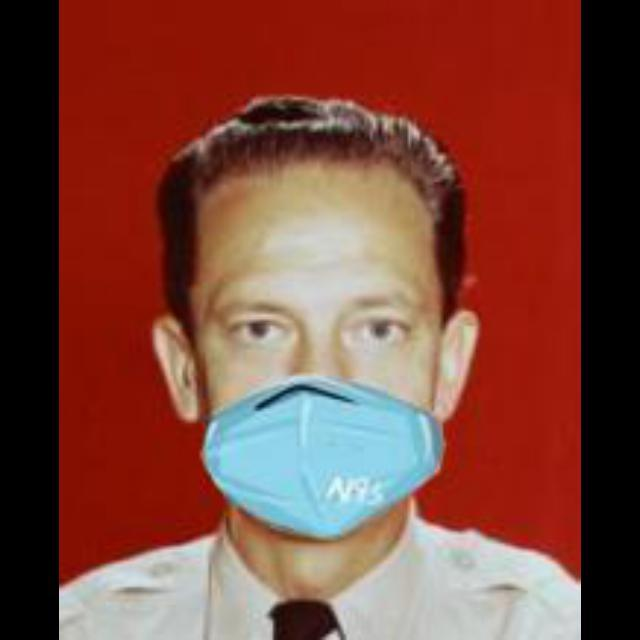suspicion: (149, 114, 495, 536)
